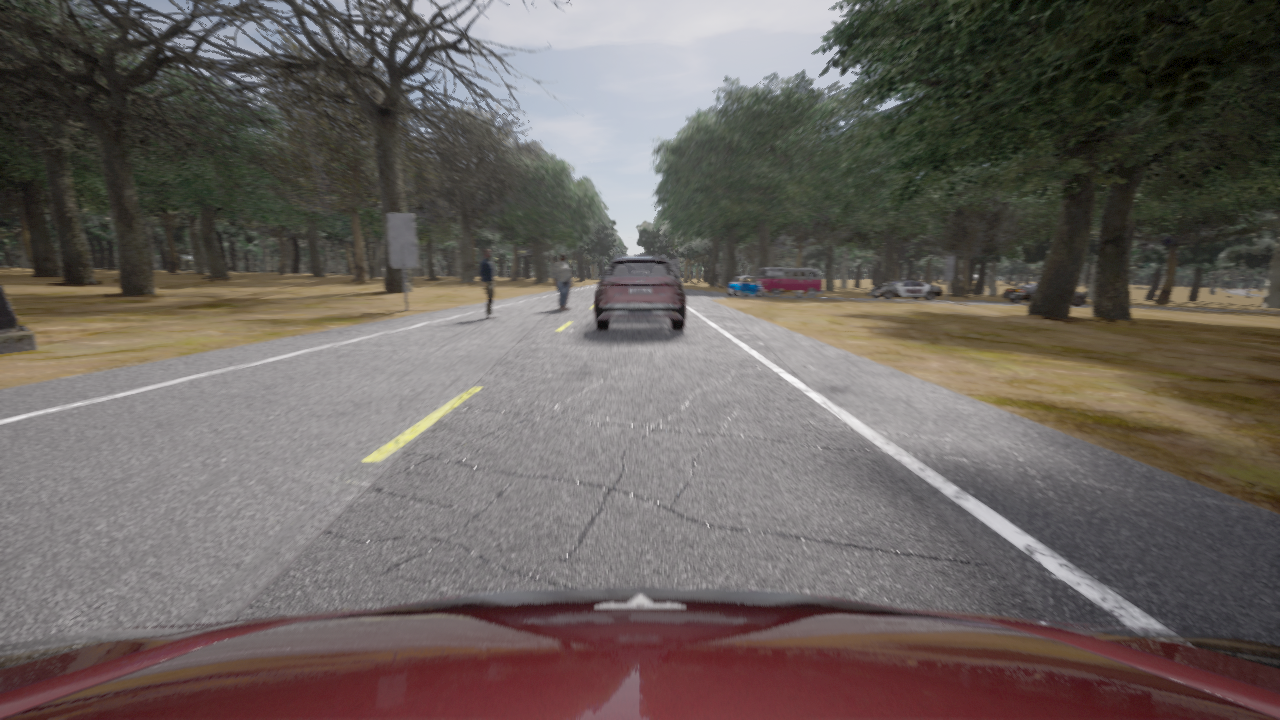cyclist: (0, 588, 1279, 719), (594, 254, 685, 330), (756, 267, 822, 298), (1002, 283, 1085, 305), (865, 279, 941, 300), (726, 276, 763, 297)
pedestrian: (479, 249, 497, 318), (553, 254, 570, 309)
